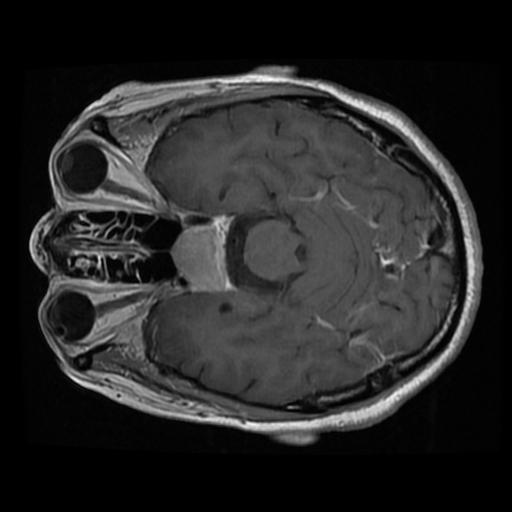pituitary tumour: (170, 219, 233, 290)
